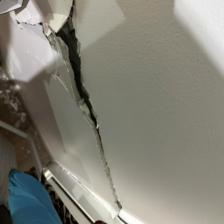Medium: (37, 8, 126, 171)
